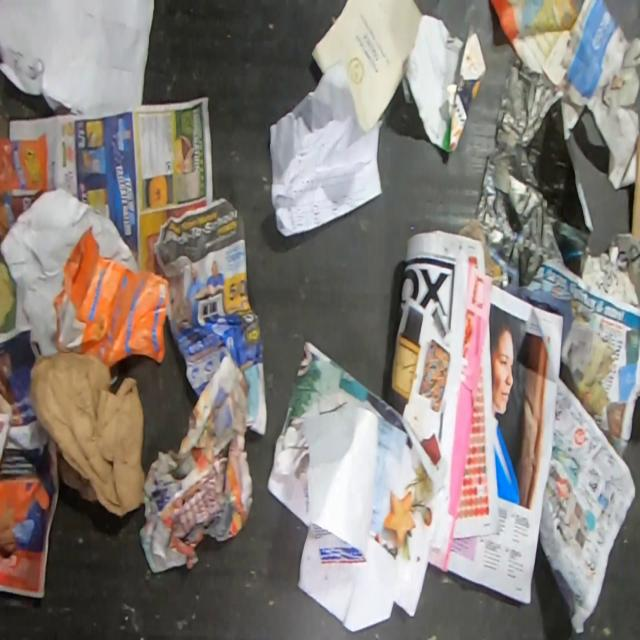cardboard: (630, 129, 640, 242)
